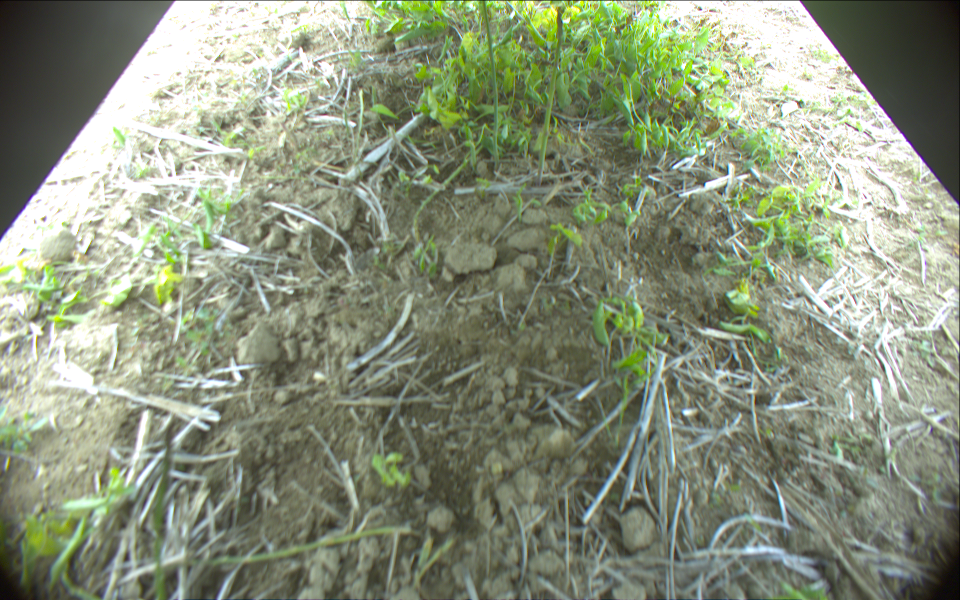aspa: (176, 526, 415, 569), (536, 9, 565, 185), (152, 423, 177, 600), (477, 1, 502, 168)
